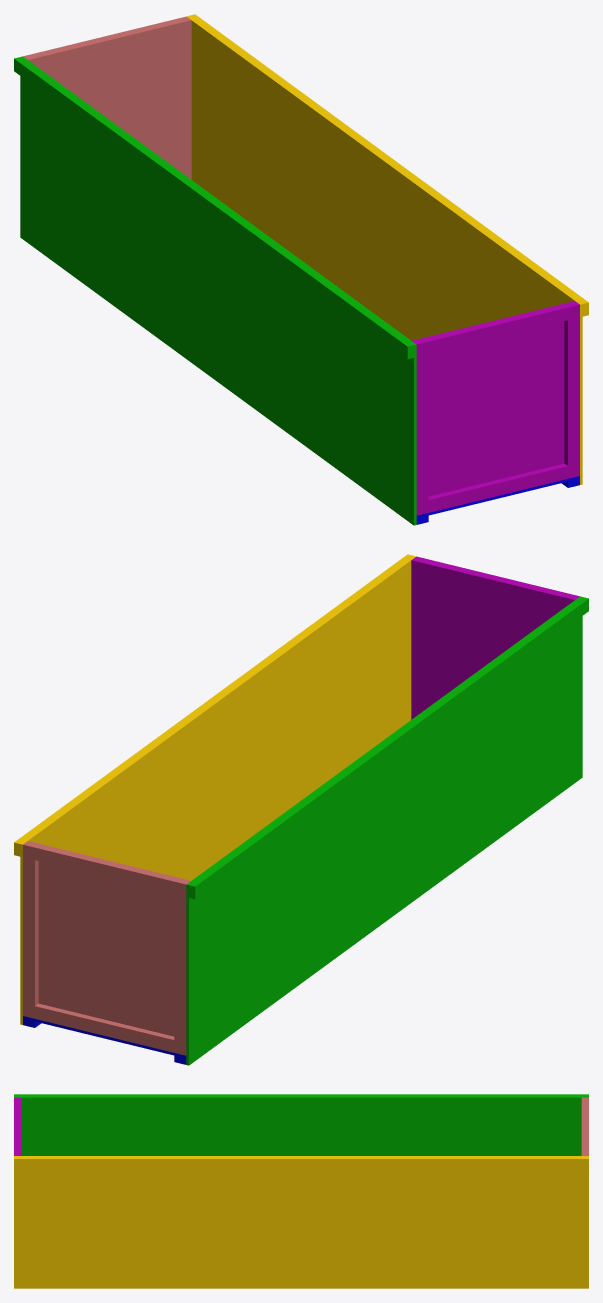
File: result.glb
3 views of the same model, one above another, from view 1: azimuth 30°, elevation 25°; view 2: azimuth 150°, elevation 25°; view 3: azimuth 270°, elevation 25° (orthographic). The views are drawn at different scales.
Parts seen in each view (by area): view 1: e6a9a2e1-1eac-4bde-bc28-deb960c2e821__Box_6, afe495a2-17da-4772-bb13-66bdf04533d6__undefined, 56a31b0f-25f8-44c4-8e89-3e17ae41bd78__Box_3, 8f1fa8af-0857-49fb-8e09-3e497ac597db__undefined, 39d1d903-97c7-45e8-8900-b13f6fc93bf2__Box_7, d0d3da61-4d52-4214-8ecc-52a411d20ae5__undefined, c78fce1a-fb4f-43d3-b7c0-c55f06b47a13__undefined, ae40d334-57e4-492a-97aa-a6425029dfc2__undefined, 7b30615e-be2e-4c3a-8a2d-1bf5ea8279ce__Box_5, b4428f7f-3ac0-41fd-a064-9f0028237655__Box_4; view 2: e6a9a2e1-1eac-4bde-bc28-deb960c2e821__Box_6, afe495a2-17da-4772-bb13-66bdf04533d6__undefined, 8f1fa8af-0857-49fb-8e09-3e497ac597db__undefined, 56a31b0f-25f8-44c4-8e89-3e17ae41bd78__Box_3, 39d1d903-97c7-45e8-8900-b13f6fc93bf2__Box_7, d0d3da61-4d52-4214-8ecc-52a411d20ae5__undefined, 03aca501-824f-4db5-864d-bbb026ef8bb4__undefined, c44099ba-13d1-4e6a-adf8-c480aef1be4c__undefined, 3a809deb-afde-4c29-b073-0ac625de7088__undefined, 6d80cd01-903a-462b-82d6-2a1575d15b29__undefined; view 3: afe495a2-17da-4772-bb13-66bdf04533d6__undefined, e6a9a2e1-1eac-4bde-bc28-deb960c2e821__Box_6, d0d3da61-4d52-4214-8ecc-52a411d20ae5__undefined, 39d1d903-97c7-45e8-8900-b13f6fc93bf2__Box_7, ae40d334-57e4-492a-97aa-a6425029dfc2__undefined, c44099ba-13d1-4e6a-adf8-c480aef1be4c__undefined.
Part boxes in pixels (left/top/right/bottom): e6a9a2e1-1eac-4bde-bc28-deb960c2e821__Box_6: left=20, top=56, right=416, bottom=525; afe495a2-17da-4772-bb13-66bdf04533d6__undefined: left=186, top=16, right=582, bottom=484; 56a31b0f-25f8-44c4-8e89-3e17ae41bd78__Box_3: left=412, top=301, right=575, bottom=496; 8f1fa8af-0857-49fb-8e09-3e497ac597db__undefined: left=27, top=19, right=191, bottom=179; 39d1d903-97c7-45e8-8900-b13f6fc93bf2__Box_7: left=14, top=57, right=413, bottom=359; d0d3da61-4d52-4214-8ecc-52a411d20ae5__undefined: left=189, top=14, right=588, bottom=316; c78fce1a-fb4f-43d3-b7c0-c55f06b47a13__undefined: left=564, top=302, right=579, bottom=478; ae40d334-57e4-492a-97aa-a6425029dfc2__undefined: left=425, top=305, right=567, bottom=353; 7b30615e-be2e-4c3a-8a2d-1bf5ea8279ce__Box_5: left=428, top=463, right=567, bottom=512; b4428f7f-3ac0-41fd-a064-9f0028237655__Box_4: left=413, top=339, right=428, bottom=515; e6a9a2e1-1eac-4bde-bc28-deb960c2e821__Box_6: left=186, top=596, right=582, bottom=1065; afe495a2-17da-4772-bb13-66bdf04533d6__undefined: left=20, top=556, right=416, bottom=1024; 8f1fa8af-0857-49fb-8e09-3e497ac597db__undefined: left=27, top=841, right=190, bottom=1036; 56a31b0f-25f8-44c4-8e89-3e17ae41bd78__Box_3: left=411, top=559, right=575, bottom=719; 39d1d903-97c7-45e8-8900-b13f6fc93bf2__Box_7: left=189, top=597, right=588, bottom=899; d0d3da61-4d52-4214-8ecc-52a411d20ae5__undefined: left=14, top=554, right=413, bottom=856; 03aca501-824f-4db5-864d-bbb026ef8bb4__undefined: left=23, top=842, right=38, bottom=1018; c44099ba-13d1-4e6a-adf8-c480aef1be4c__undefined: left=35, top=845, right=177, bottom=893; 3a809deb-afde-4c29-b073-0ac625de7088__undefined: left=35, top=1003, right=174, bottom=1052; 6d80cd01-903a-462b-82d6-2a1575d15b29__undefined: left=174, top=879, right=189, bottom=1055; afe495a2-17da-4772-bb13-66bdf04533d6__undefined: left=14, top=1156, right=588, bottom=1288; e6a9a2e1-1eac-4bde-bc28-deb960c2e821__Box_6: left=14, top=1096, right=588, bottom=1155; d0d3da61-4d52-4214-8ecc-52a411d20ae5__undefined: left=14, top=1156, right=588, bottom=1168; 39d1d903-97c7-45e8-8900-b13f6fc93bf2__Box_7: left=14, top=1094, right=588, bottom=1096; ae40d334-57e4-492a-97aa-a6425029dfc2__undefined: left=14, top=1102, right=19, bottom=1151; c44099ba-13d1-4e6a-adf8-c480aef1be4c__undefined: left=583, top=1102, right=588, bottom=1151.
Bounding box in the file's own units: 554 × 527 × 2084.
